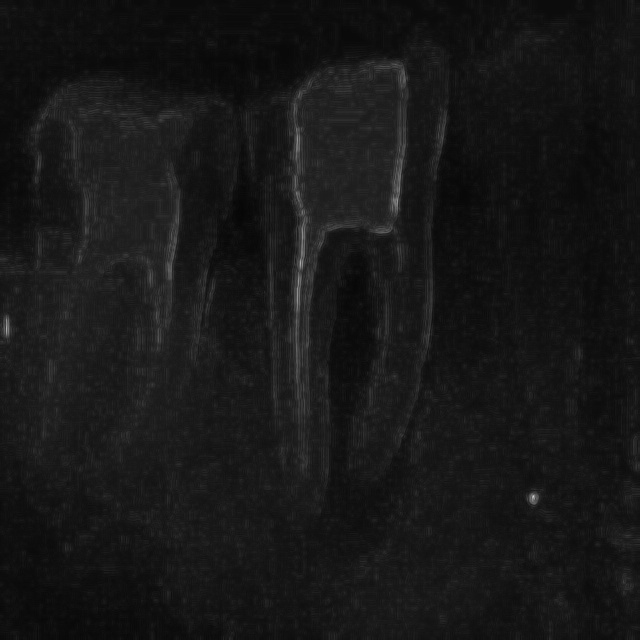Class 0- No endodontic treatment: (7, 75, 248, 532)
Class 1- complete endodontic treatment: (232, 87, 486, 597)
